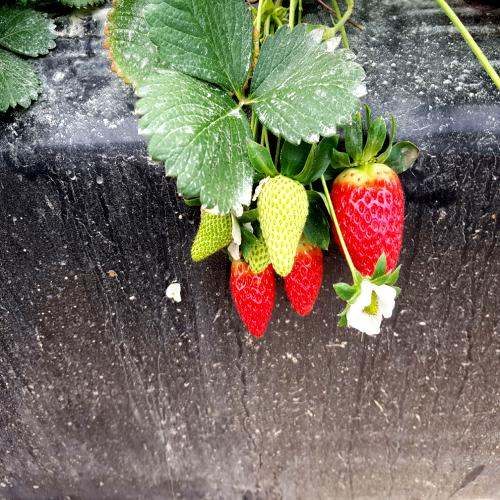ripe: (330, 161, 406, 295), (230, 248, 277, 341), (285, 228, 327, 324)
